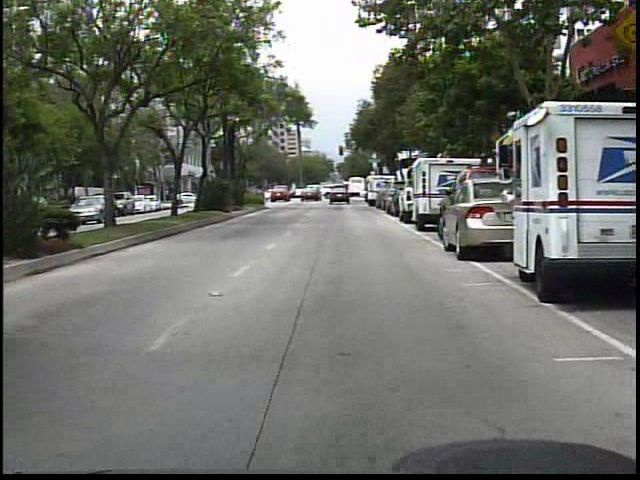person: (334, 183, 347, 203)
